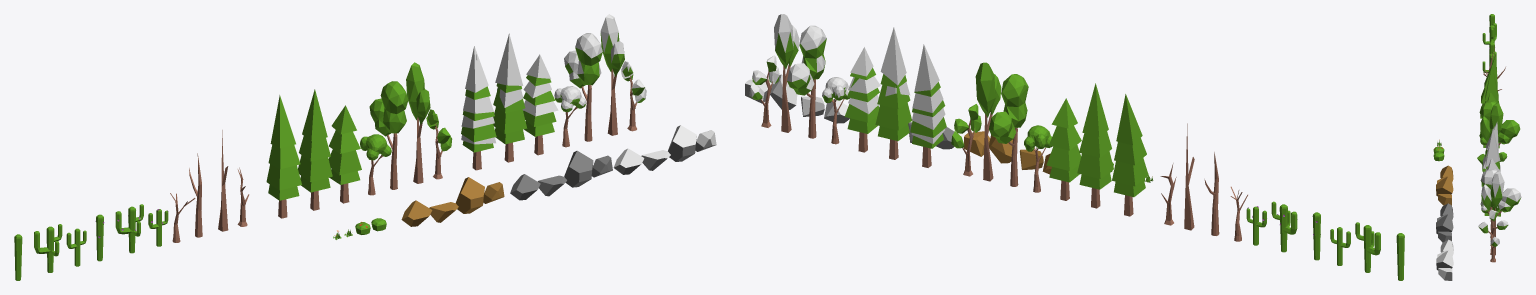
3 views of the same model, side by side, from view 1: azimuth 30°, elevation 25°; view 2: azimuth 150°, elevation 25°; view 3: azimuth 270°, elevation 25° (orthographic). The views are drawn at different scales.
Visible parts, largest first — view 1: Plane.009, Plane.008, Plane.003, Plane.004, Plane.007, Plane.002, Plane.005, Plane, Cube.007, Cube.001, Plane.001, Plane.006 (+12 smaller); view 2: Plane.009, Plane.008, Plane.004, Plane.003, Plane.007, Plane.002, Plane.005, Plane, Cube.001, Cube.007, Cube, Cube.006 (+11 smaller); view 3: Plane.005, Cube.007, Plane, Cube.001, Cube.006, Plane.009, Plane.004, Cube.015, Cube.011, Cube.019, Plane.003, Plane.008 (+13 smaller).
Boxes of the visible parts, x1,y1,x2,y2 form: Plane.009: (493,33,527,162); Plane.008: (461,46,496,170); Plane.003: (266,95,301,218); Plane.004: (298,89,332,210); Plane.007: (522,54,558,155); Plane.002: (328,105,361,203); Plane.005: (564,33,602,141); Plane: (369,81,408,189); Cube.007: (600,14,624,135); Cube.001: (406,62,430,183); Plane.001: (360,134,391,195); Plane.006: (554,86,586,147); Plane.009: (875,27,911,159); Plane.008: (910,44,946,167); Plane.004: (1077,83,1113,208); Plane.003: (1112,94,1148,216); Plane.007: (844,47,880,152); Plane.002: (1046,98,1081,200); Plane.005: (787,25,826,138); Plane: (989,74,1028,186); Cube.001: (975,62,1001,181); Cube.007: (774,14,799,132); Cube: (951,104,981,176); Cube.006: (749,55,779,127); Plane.005: (1480,169,1521,245); Cube.007: (1481,170,1504,255); Plane: (1479,101,1520,145); Cube.001: (1480,102,1503,142); Cube.006: (1478,209,1508,262); Plane.009: (1485,128,1500,171); Plane.004: (1485,65,1499,103); Cube.015: (1436,250,1453,270); Cube.011: (1436,214,1453,234); Cube.019: (1436,176,1453,196); Plane.003: (1480,54,1497,118); Plane.008: (1481,122,1498,189).
Bounding box in the file's own units: 270 × 53.85 × 43.15.
